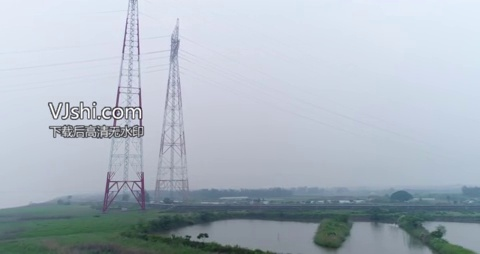tower_body: (151, 19, 196, 206)
tower_foot: (154, 167, 192, 203)
